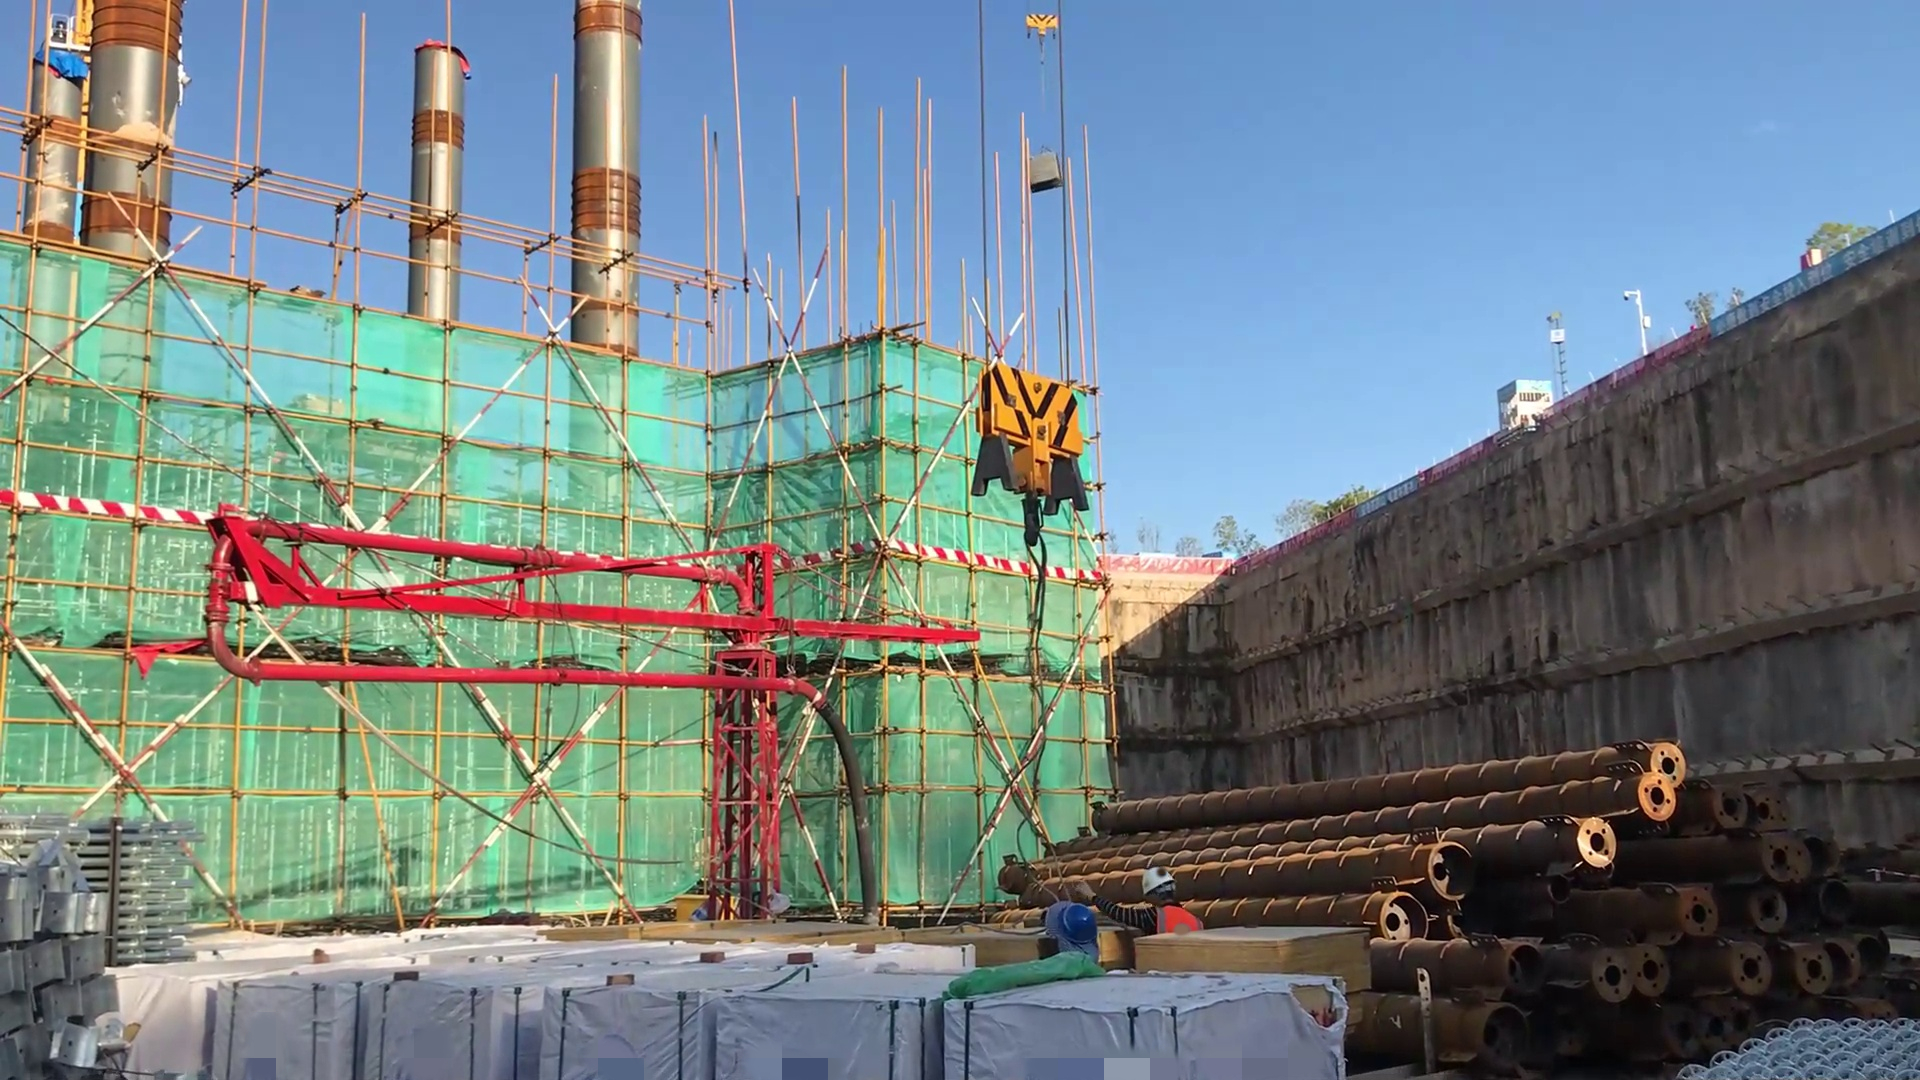board: (1120, 922, 1380, 998)
ebox: (673, 893, 741, 919)
helmet: (1041, 902, 1113, 965), (1136, 858, 1179, 906)
hook: (962, 339, 1104, 548), (1016, 6, 1090, 62)
person: (1084, 867, 1204, 976)
scaffold: (51, 791, 219, 963)
slogan: (1716, 212, 1920, 344), (1348, 471, 1438, 527)
vest: (1148, 903, 1203, 956)
wood: (542, 926, 894, 945)
